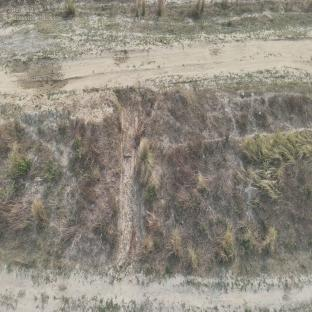slope_drain: (113, 94, 141, 268)
